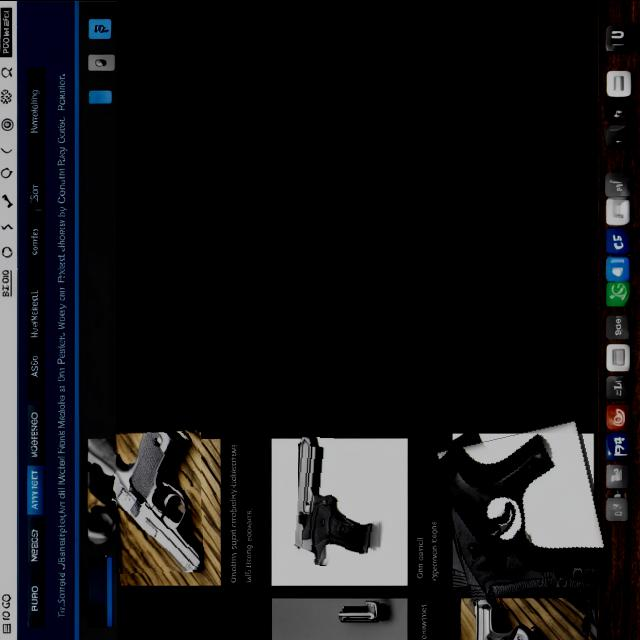gun: (438, 429, 613, 601), (115, 428, 204, 570), (295, 436, 379, 564)
